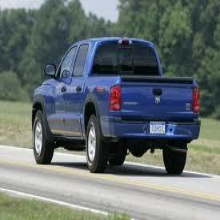no damage: (30, 36, 201, 174)
